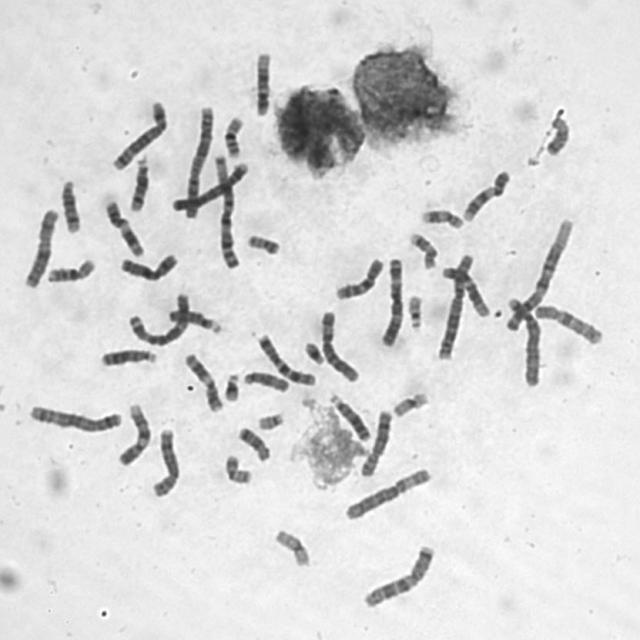A1: (502, 215, 579, 334), (210, 152, 247, 271)
A2: (436, 251, 477, 363), (182, 103, 218, 222)
A3: (126, 289, 192, 349), (378, 255, 406, 348)
B4: (169, 160, 252, 214), (25, 400, 125, 436)
B5: (109, 97, 170, 173), (504, 296, 546, 388)
C10: (532, 303, 604, 347), (333, 255, 386, 302)
C11: (100, 198, 147, 261), (182, 352, 225, 415)
C12: (440, 265, 491, 320), (250, 47, 276, 123)
C6: (341, 465, 437, 524), (318, 306, 362, 387)
C7: (357, 540, 441, 611), (254, 333, 320, 389)
C8: (358, 409, 394, 478), (151, 424, 184, 499)
C9: (462, 167, 511, 224), (116, 401, 152, 466)
D13: (327, 391, 372, 444), (95, 346, 161, 372)
D14: (58, 177, 86, 237), (128, 156, 153, 215)
D15: (166, 308, 224, 334), (243, 370, 290, 396)
E16: (46, 254, 100, 286), (223, 114, 248, 160)
E17: (406, 230, 439, 272), (418, 207, 464, 231)
E18: (235, 423, 273, 465), (545, 112, 575, 160)
F19: (273, 527, 312, 569), (391, 390, 432, 420)
F20: (222, 453, 255, 488), (246, 233, 282, 257)
G21: (300, 338, 328, 368), (223, 371, 240, 403)
G22: (404, 290, 428, 335), (256, 411, 286, 433)
X: (18, 204, 62, 294), (117, 248, 182, 288)
